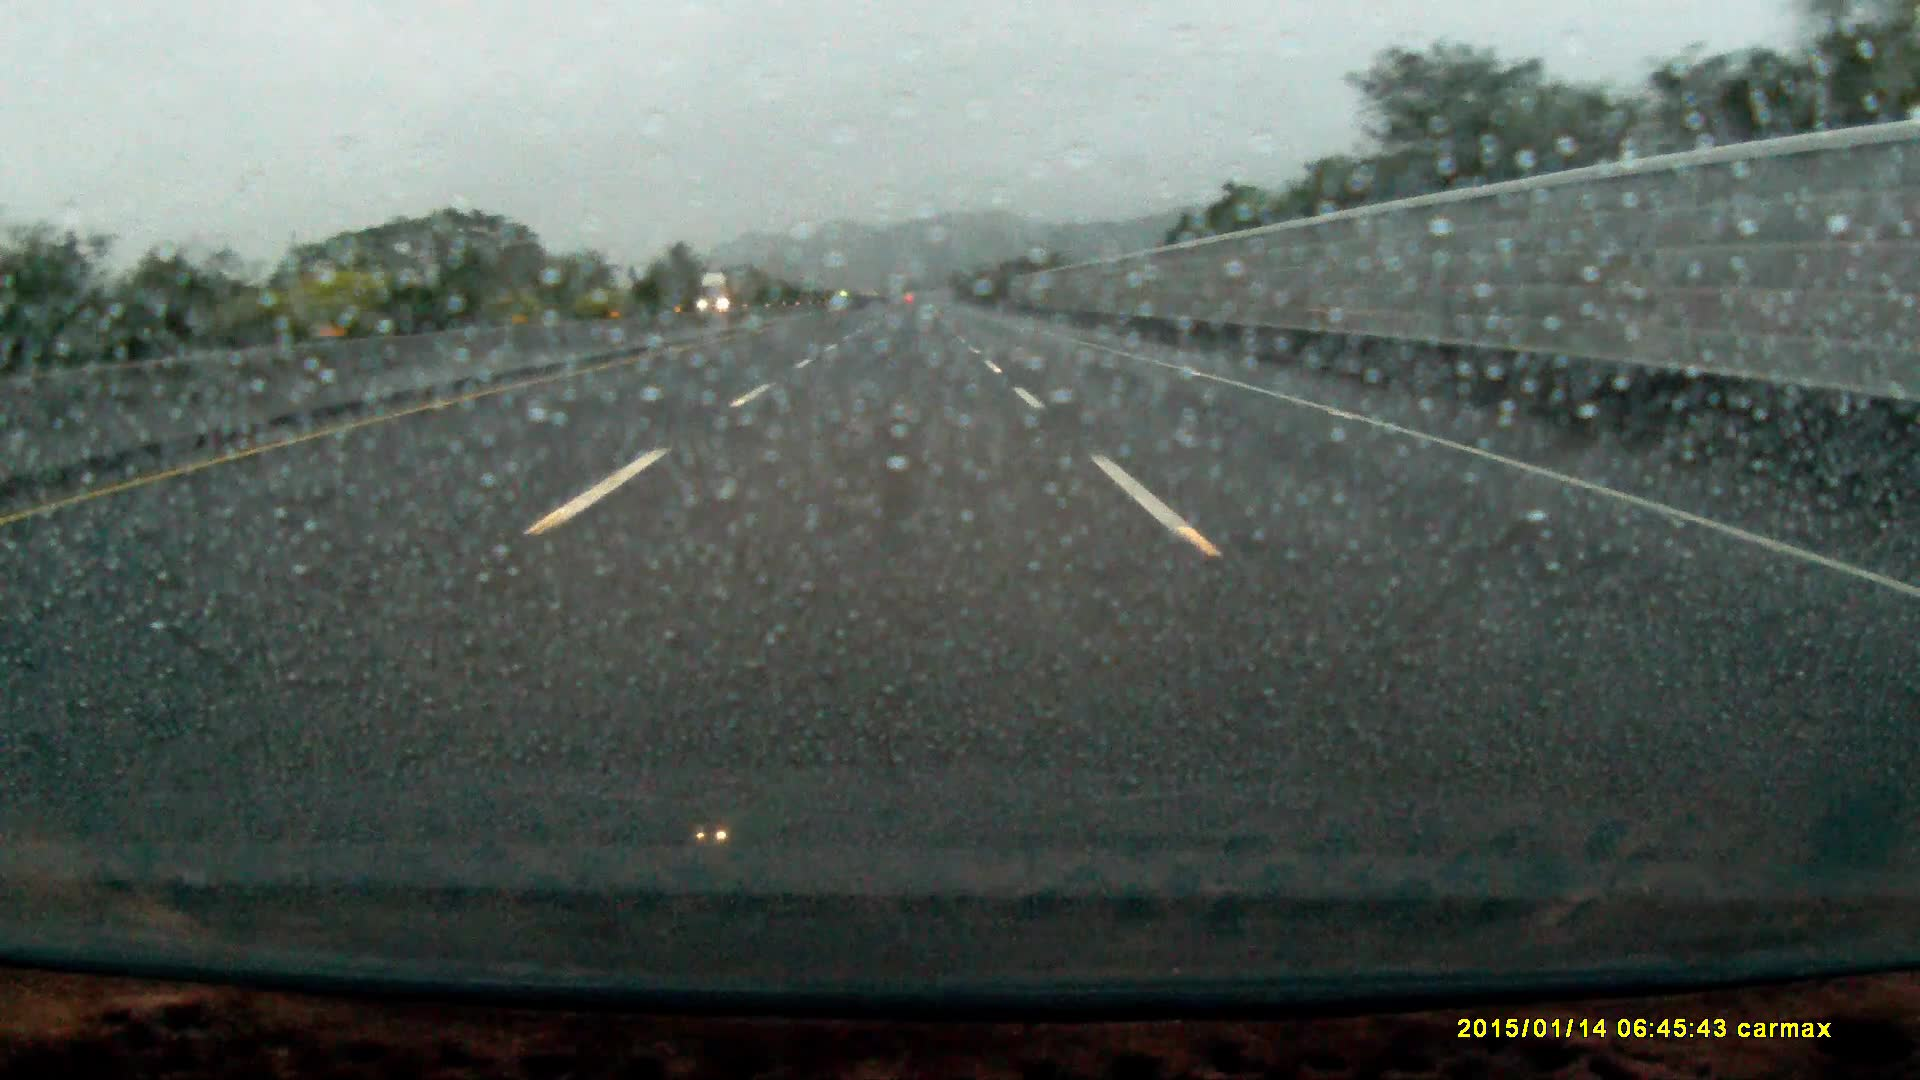vehicle: (694, 273, 744, 318)
